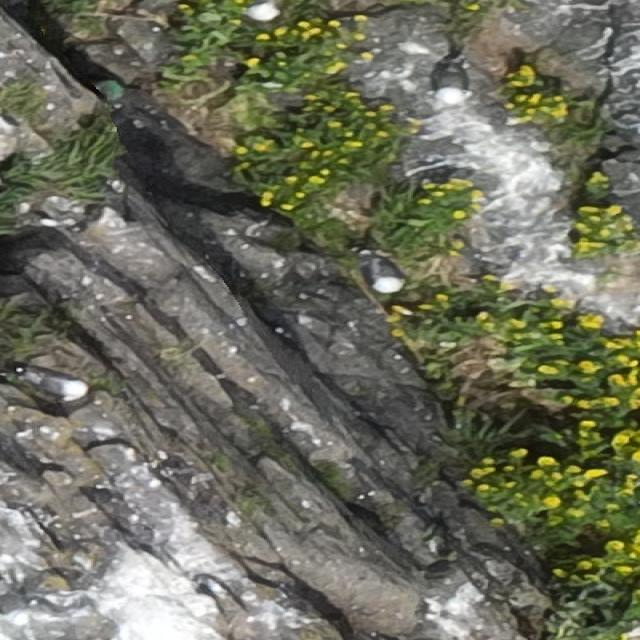umineko: (429, 52, 474, 108), (30, 375, 80, 397), (371, 258, 399, 291)
